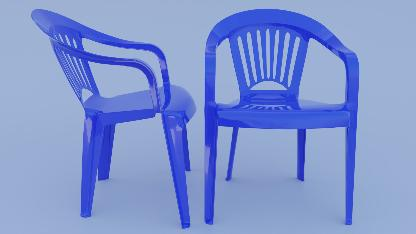chair: (30, 4, 197, 226), (200, 8, 361, 225)
